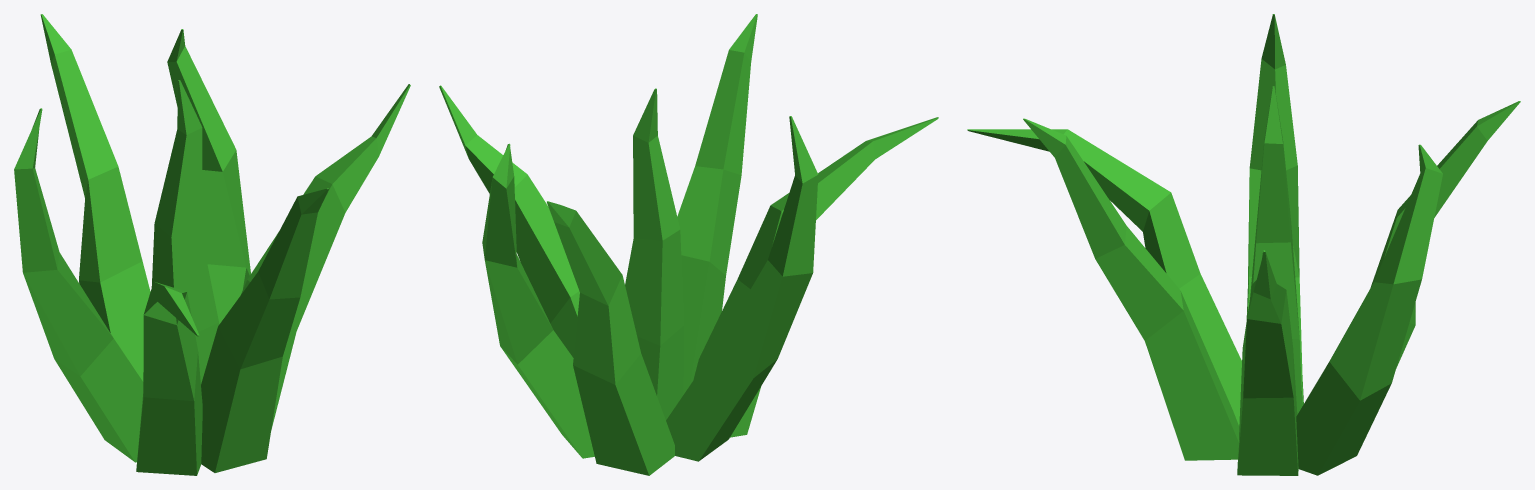
File: LowPoly_Grass2.fbx
The picture shows the model from 3 angles, left to right: view 1: azimuth 30°, elevation 25°; view 2: azimuth 150°, elevation 25°; view 3: azimuth 270°, elevation 25°; orthographic projection. The views are drawn at different scales.
Visible parts, largest first — view 1: Cube.001; view 2: Cube.001; view 3: Cube.001.
Boxes of the visible parts, x1=… form: Cube.001: x1=14, y1=14, x2=410, y2=475; Cube.001: x1=439, y1=14, x2=938, y2=475; Cube.001: x1=967, y1=14, x2=1520, y2=475.
Bounding box in the file's own units: 323 × 284 × 397.
